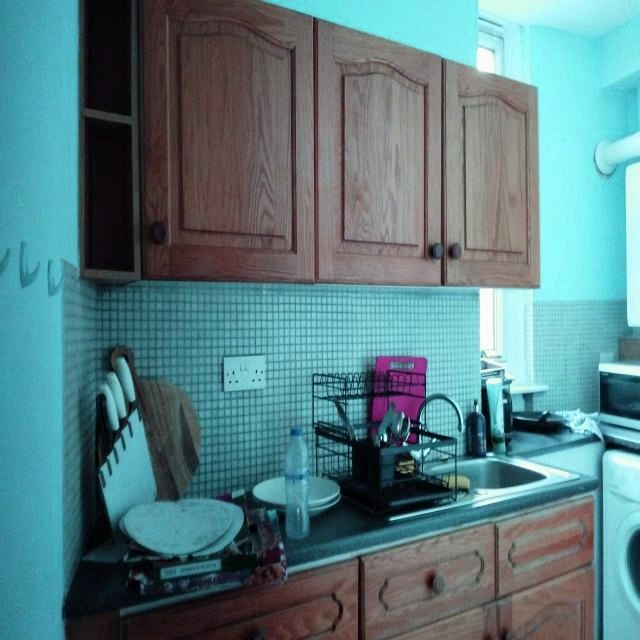countertop: (137, 0, 541, 292), (119, 492, 599, 640), (282, 472, 599, 579)
microwave: (599, 362, 640, 458)
pillow: (79, 0, 137, 278)
shower: (458, 457, 575, 500)
